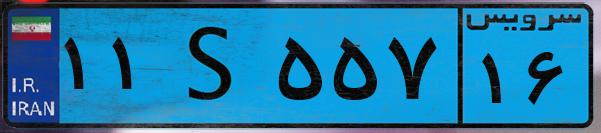1: (57, 26, 110, 100), (475, 38, 525, 113), (110, 28, 158, 98)
5: (270, 28, 330, 110), (330, 28, 385, 110)
6: (525, 38, 570, 115)
7: (385, 28, 445, 110)
S: (158, 12, 270, 120)
